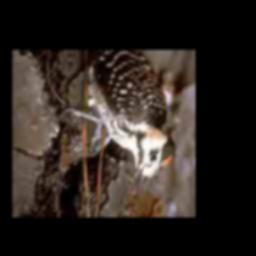Woodpecker: (66, 53, 175, 203)
